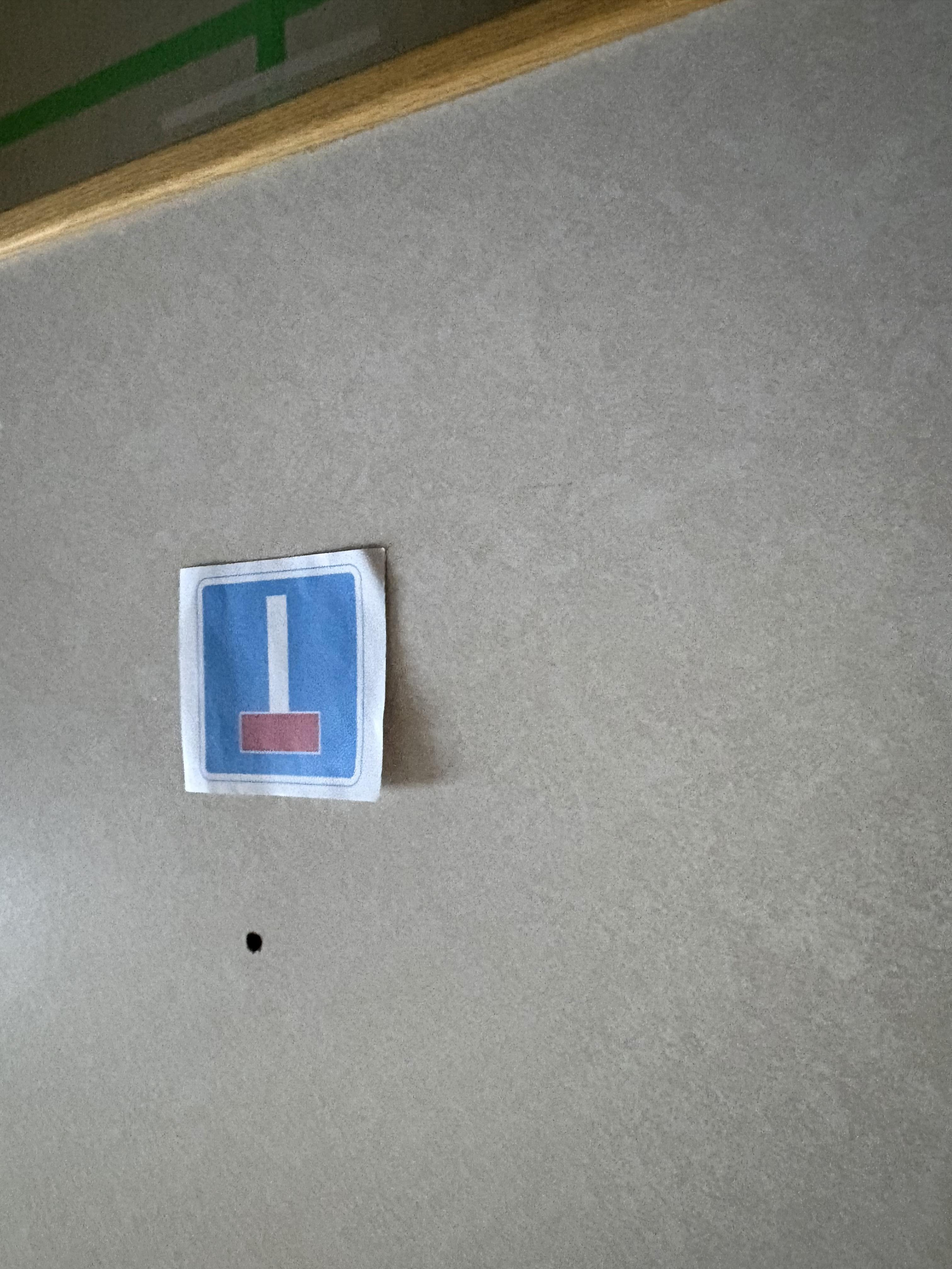Dead End: (176, 540, 387, 807)
